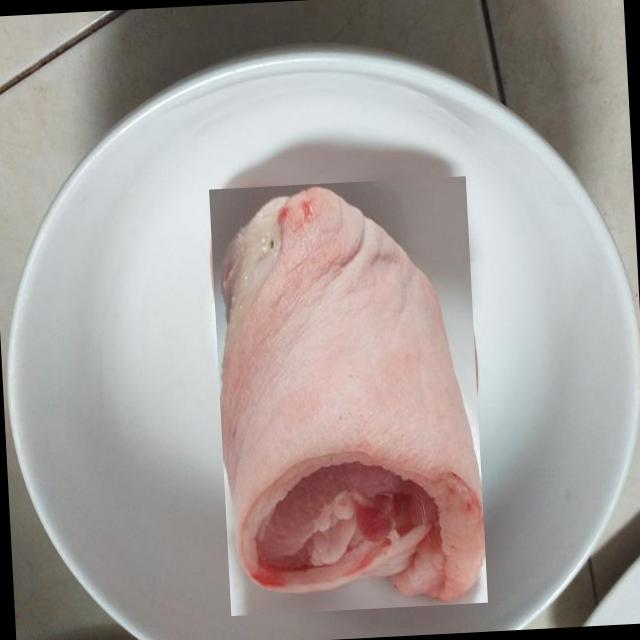chicken: (209, 176, 489, 617)
